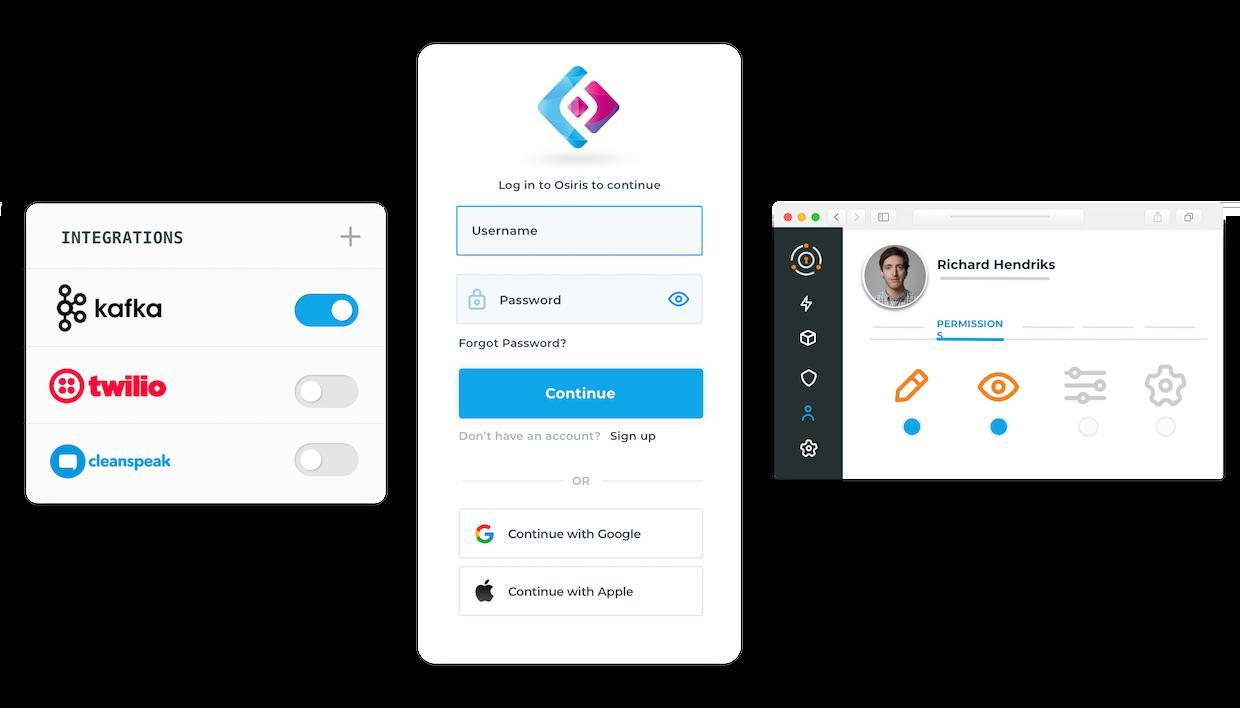button: (459, 369, 705, 421), (461, 508, 704, 558), (461, 567, 703, 617)
icon: (1057, 362, 1111, 412), (1144, 362, 1190, 410), (976, 370, 1024, 406), (790, 237, 826, 283), (894, 368, 933, 407), (337, 222, 367, 256), (797, 437, 822, 461), (800, 367, 822, 390), (798, 292, 818, 317), (799, 404, 819, 425), (798, 329, 820, 348)
input: (458, 207, 704, 258), (457, 274, 703, 325)
label: (54, 227, 184, 256), (89, 374, 171, 401), (93, 296, 168, 322), (87, 453, 175, 473)
radio: (1155, 416, 1178, 439), (1078, 417, 1100, 439)
switch: (294, 374, 361, 412), (295, 442, 360, 479), (294, 294, 360, 329)
